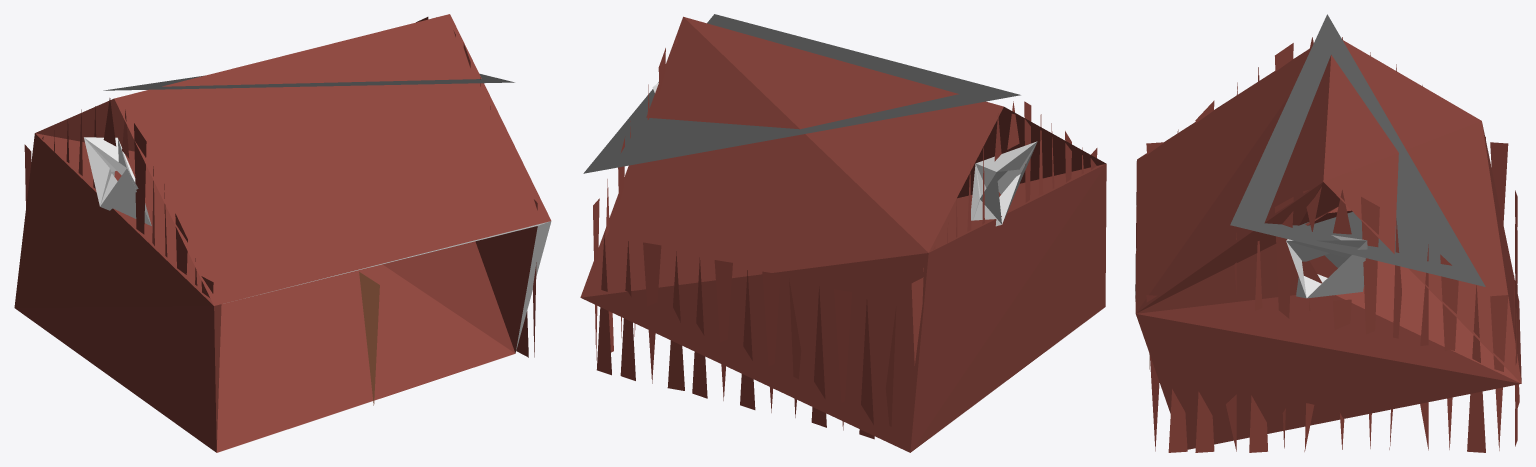
File: OpenBarn.lod3.glb
3 views of the same model, side by side, from view 1: azimuth 30°, elevation 25°; view 2: azimuth 150°, elevation 25°; view 3: azimuth 270°, elevation 25° (orthographic). The views are drawn at different scales.
Visible parts, largest first — view 1: OpenBarn; view 2: OpenBarn; view 3: OpenBarn.
Boxes of the visible parts, x1,y1,x2,y2 form: OpenBarn: (14,14,551,452); OpenBarn: (580,14,1106,452); OpenBarn: (1135,14,1521,452).
Size of the model in its own units: 5.74 by 4.44 by 5.52.
